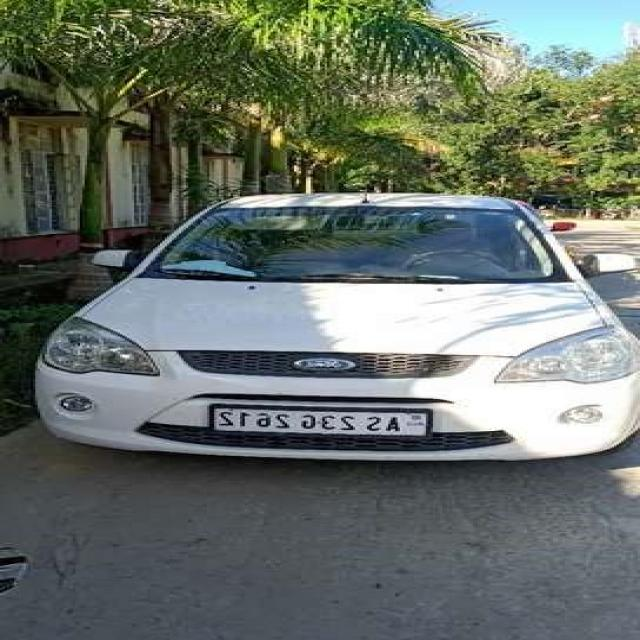license_plate: (205, 404, 437, 442)
